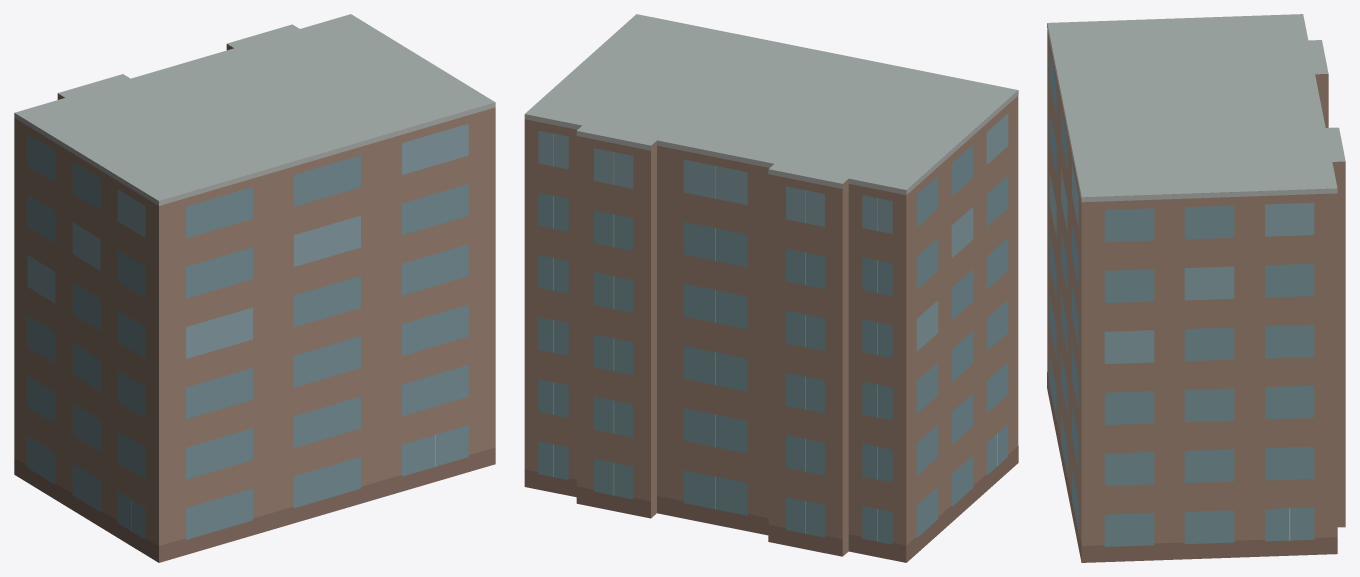
File: survey-upis-33004875.glb
The picture shows the model from 3 angles, left to right: view 1: azimuth 30°, elevation 25°; view 2: azimuth 150°, elevation 25°; view 3: azimuth 270°, elevation 25°; orthographic projection. The views are drawn at different scales.
Parts seen in each view (by area): view 1: survey-upis-33004875.tmp; view 2: survey-upis-33004875.tmp; view 3: survey-upis-33004875.tmp.
Part boxes in pixels (<box>): survey-upis-33004875.tmp: <box>14,14,495,562</box>; survey-upis-33004875.tmp: <box>524,14,1018,562</box>; survey-upis-33004875.tmp: <box>1047,14,1345,562</box>.
Size of the model in its own units: 19.14 by 17.8 by 13.18.
